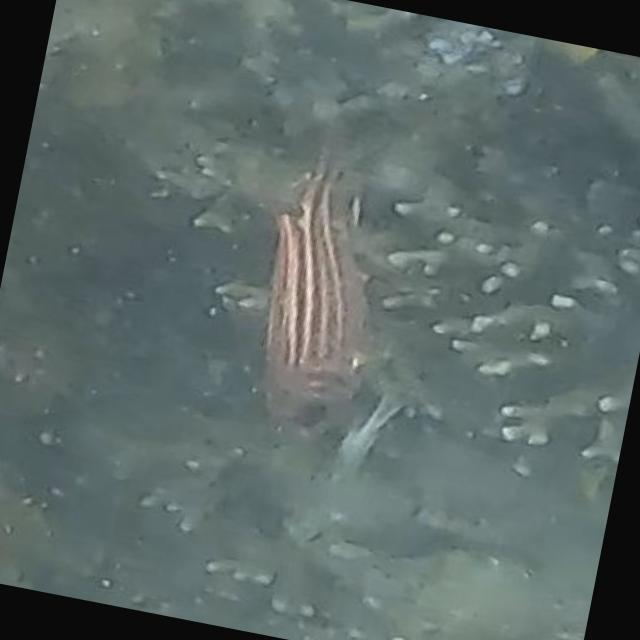Asker Baligi: (232, 148, 416, 442)
